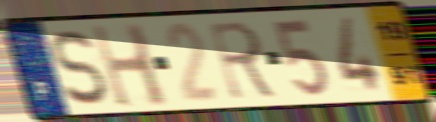2: (165, 20, 222, 105)
4: (336, 15, 384, 95)
5: (269, 16, 331, 99)
H: (88, 22, 172, 111)
R: (206, 18, 281, 102)
S: (50, 27, 110, 108)
